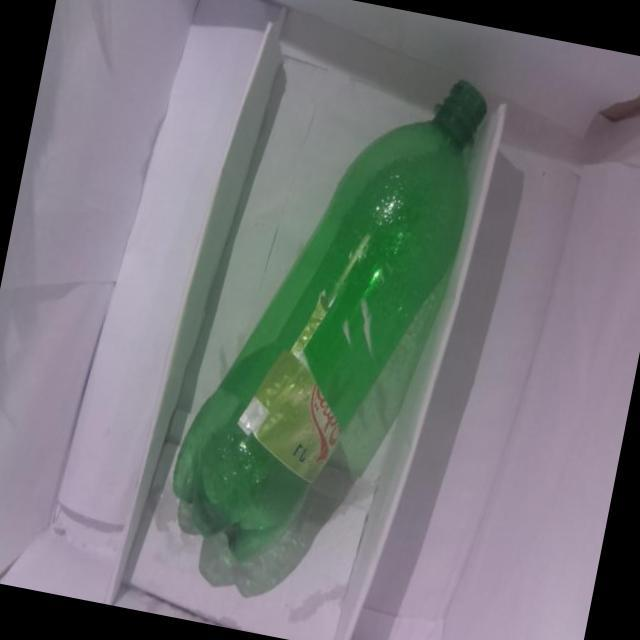good: (156, 28, 509, 590)
